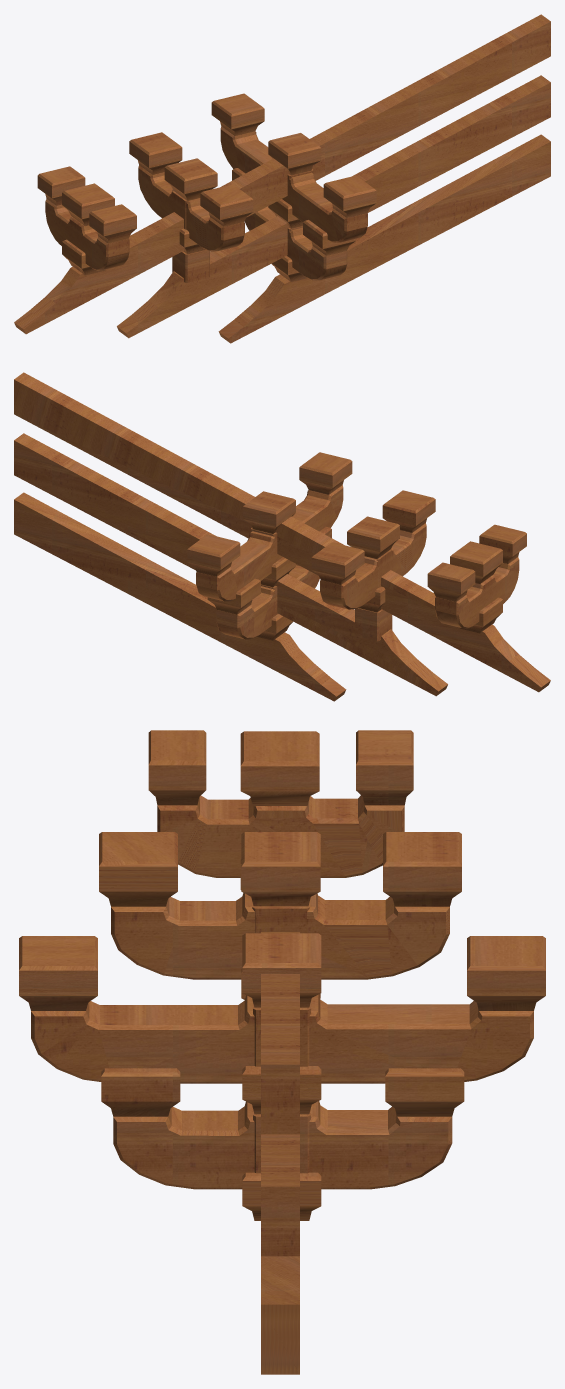
3 views of the same model, one above another, from view 1: azimuth 30°, elevation 25°; view 2: azimuth 150°, elevation 25°; view 3: azimuth 270°, elevation 25° (orthographic). The views are drawn at different scales.
Parts seen in each view (by area): view 1: R3L3; view 2: R3L3; view 3: R3L3.
Boxes of the visible parts, x1,y1,x2,y2 form: R3L3: [14, 14, 550, 343]; R3L3: [14, 372, 550, 701]; R3L3: [19, 730, 545, 1374].
Bounding box in the file's own units: 58.78 × 25.99 × 25.45.
1 material, 1 textured.
